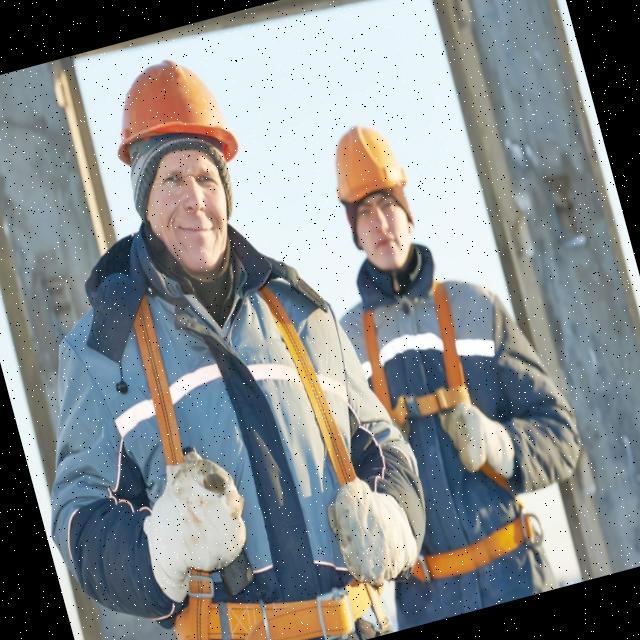Helmet: (97, 45, 246, 191), (321, 118, 410, 206)
NoJacket: (87, 203, 389, 640), (338, 255, 530, 586)
